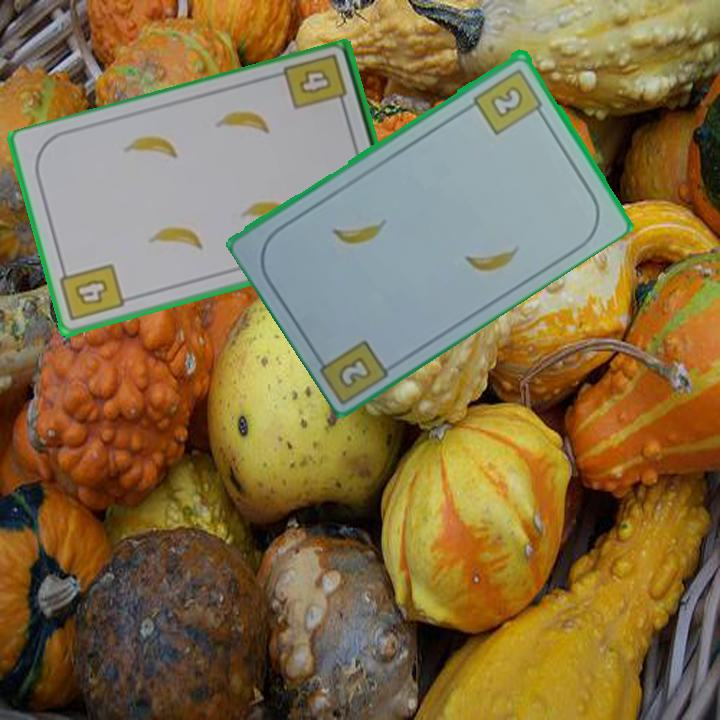2b: (470, 64, 548, 137), (334, 352, 375, 392)
4b: (280, 50, 350, 115), (56, 260, 127, 324)
